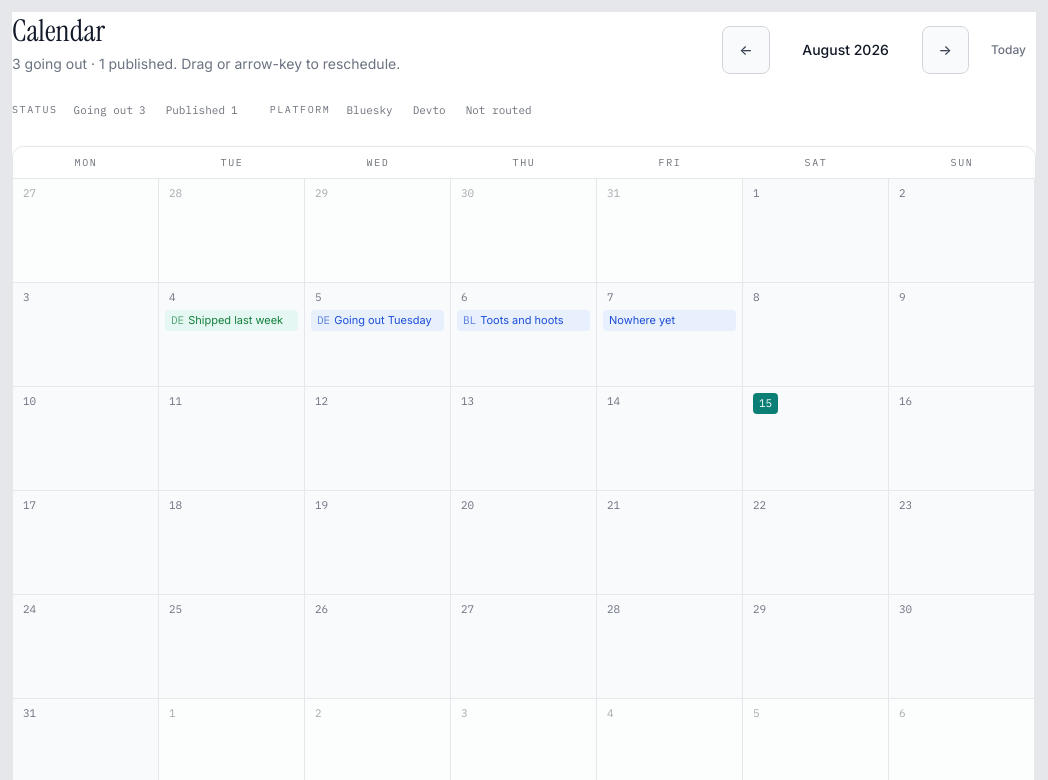
Test case: filtering › narrows to one platform
Expected: the link "Toots and hoots" is shown, [457, 310, 590, 331]
Click the button "Bluesky" at (370,110), box [338, 98, 401, 122]
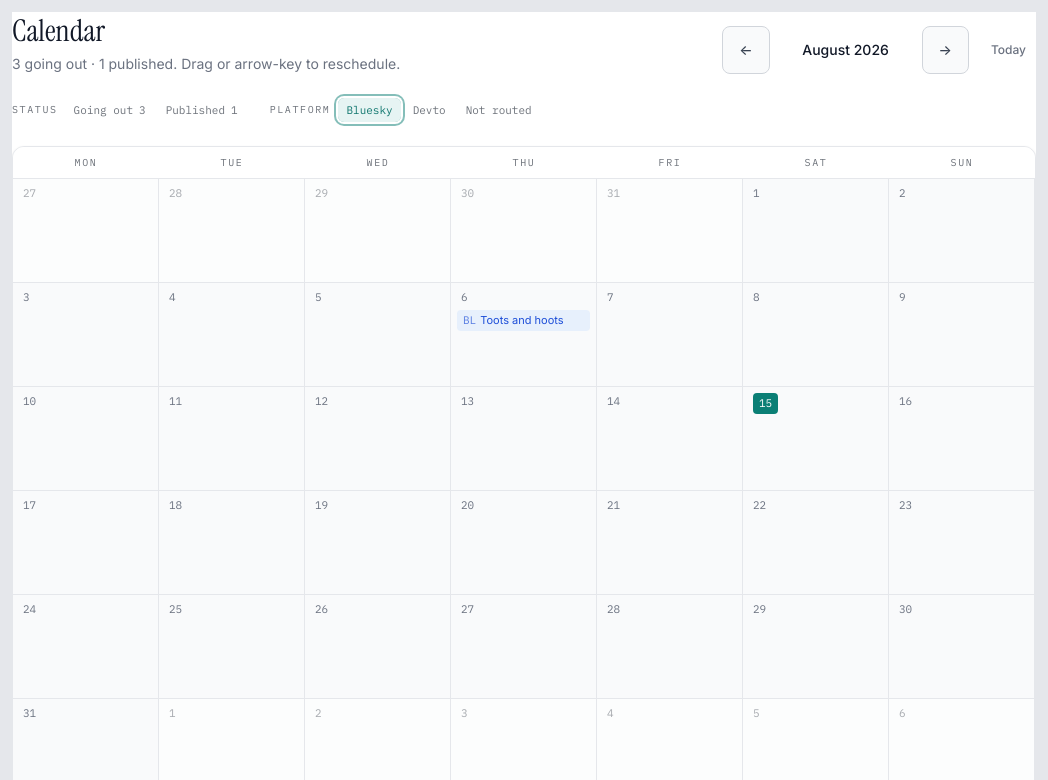
Expected: the link "Toots and hoots" is shown, [457, 310, 590, 331]
Expected: the link "Going out Tuesday" is gone
